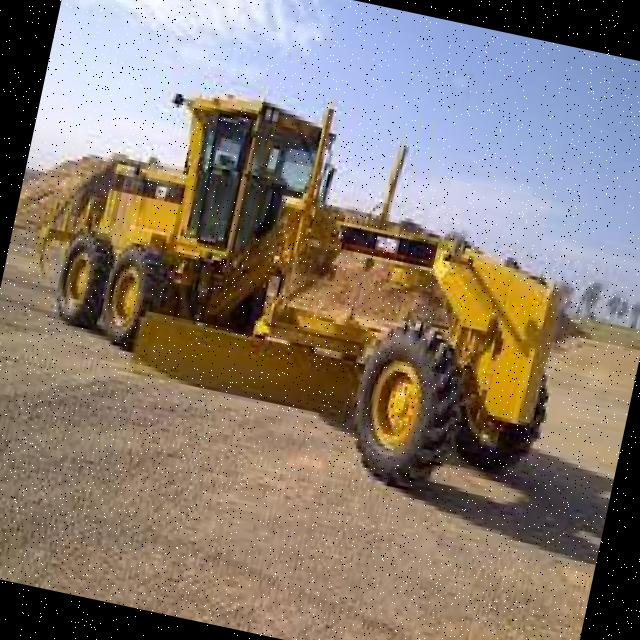Grader: (0, 14, 620, 550)
